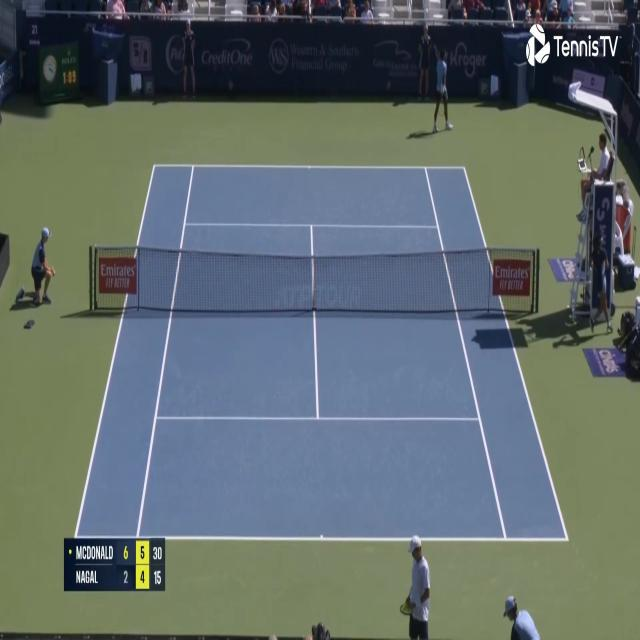tennis-player: (399, 530, 432, 640), (430, 47, 454, 134)
